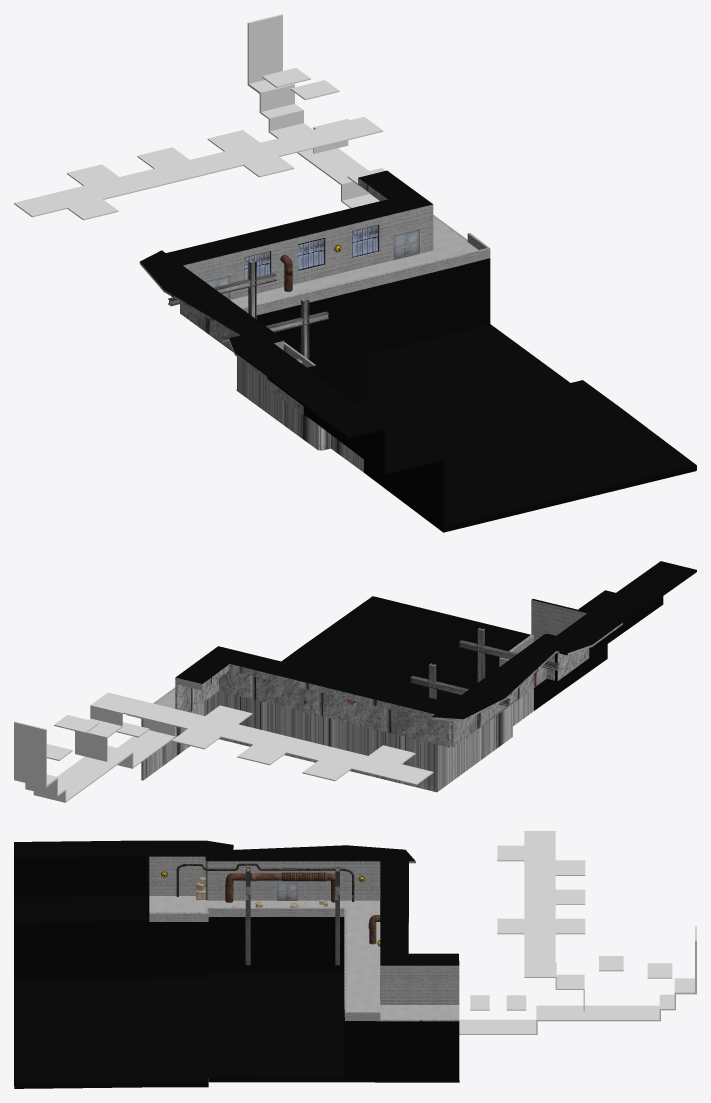
Rendered from Level1.fbx.
3 views of the same model, one above another, from view 1: azimuth 30°, elevation 25°; view 2: azimuth 150°, elevation 25°; view 3: azimuth 270°, elevation 25° (orthographic). The views are drawn at different scales.
Parts seen in each view (by area): view 1: Cube, Cube.007, Cube.005; view 2: Cube, Cube.007, Cube.005, Cube.004, Cube.018, Cube.020, Cube.009, Cube.015; view 3: Cube, Cube.007, Cube.005, BezierCurve, BezierCurve.001, Cube.015, Cube.004, Cube.017, Cube.008.
Boxes of the visible parts, x1,y1,x2,y2 form: Cube: (139,170,696,532); Cube.007: (14,117,383,220); Cube.005: (247,14,379,208); Cube: (141,561,696,792); Cube.007: (75,692,433,785); Cube.005: (14,721,158,802); Cube.004: (127,719,175,749); Cube.018: (459,640,559,670); Cube.020: (410,675,510,706); Cube.009: (54,715,99,733); Cube.015: (477,628,485,682); Cube: (14,840,459,1088); Cube.007: (497,831,585,1011); Cube.005: (489,926,696,1034); BezierCurve: (225,872,335,902); BezierCurve.001: (176,863,354,901); Cube.015: (245,869,250,965); Cube.004: (459,1019,489,1034); Cube.017: (335,869,339,965); Cube.008: (647,963,672,978).
Size of the model in its own units: 13260 by 5788 by 25223.
